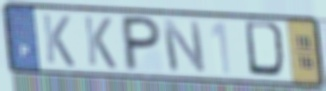1: (210, 21, 232, 76)
D: (242, 19, 291, 81)
K: (40, 12, 77, 70), (82, 14, 119, 72)
N: (159, 18, 209, 75)
P: (122, 13, 164, 73)
